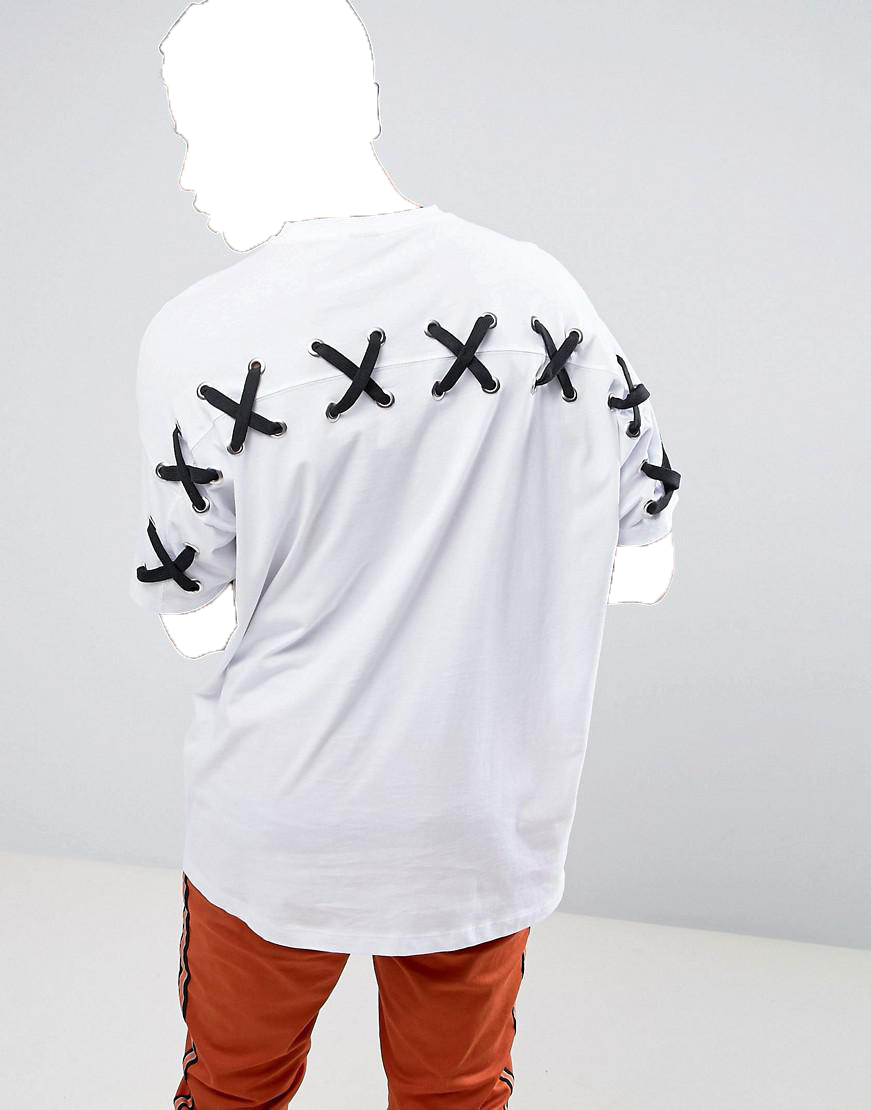teeshirt: (108, 208, 701, 974)
